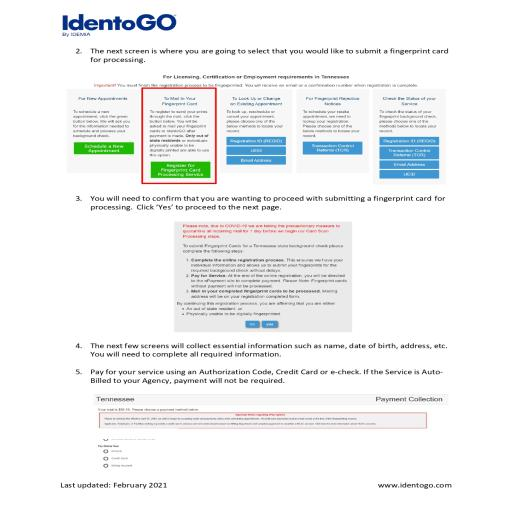check_box: (97, 443, 143, 469), (243, 317, 282, 330)
